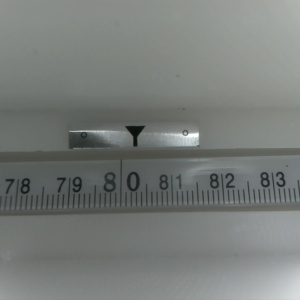0: (126, 171, 140, 191)
1: (175, 174, 182, 189)
2: (224, 173, 234, 188)
3: (275, 171, 285, 188)
7: (3, 178, 14, 194), (55, 177, 65, 193)
8: (103, 172, 116, 192), (258, 171, 269, 187), (209, 173, 219, 189), (20, 178, 30, 194), (159, 174, 169, 190)
9: (71, 177, 82, 193)
finger: (123, 126, 145, 148)
